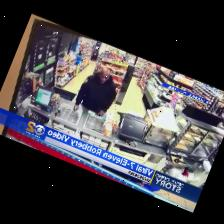person: (73, 68, 115, 116)
